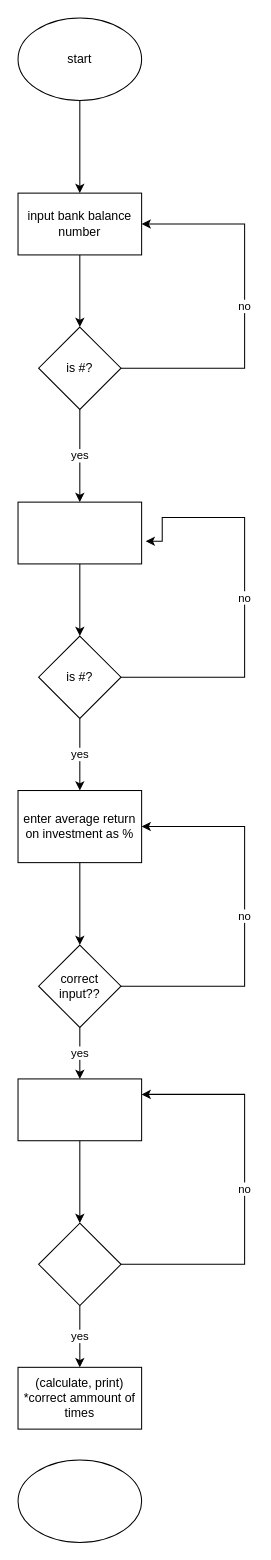
This 271x1560 diagram has some shape labels left out. The shapes that lost their labels are listed below. From the top down, each one's centre as x and y in pixels, then its label:
At point (79, 532): "input yearly contribution".
At point (79, 1109): "enter number of years".
At point (79, 1264): "is it correct input??".
At point (79, 1500): "end".
